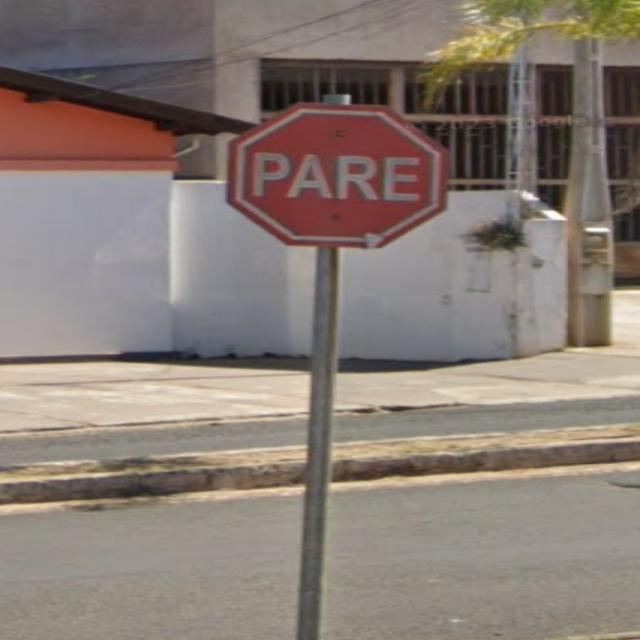stop: (206, 86, 462, 272)
